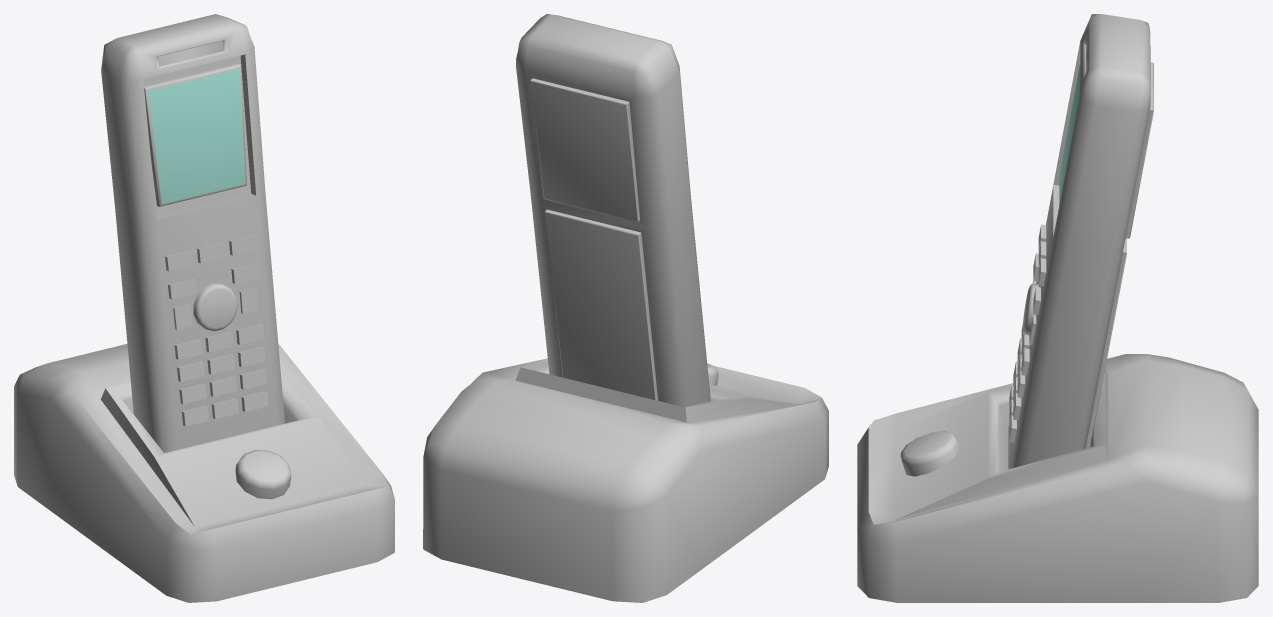
File: Telephone.fbx
3 renders of one model, left to right at view 1: azimuth 30°, elevation 25°; view 2: azimuth 150°, elevation 25°; view 3: azimuth 270°, elevation 25°, orthographic. The views are drawn at different scales.
Parts seen in each view (by area): view 1: Telephone, Telephone-Box; view 2: Telephone-Box, Telephone; view 3: Telephone-Box, Telephone.
Boxes of the visible parts, x1,y1,x2,y2 form: Telephone: [101, 14, 284, 452]; Telephone-Box: [14, 344, 394, 602]; Telephone-Box: [423, 358, 828, 602]; Telephone: [516, 14, 710, 406]; Telephone-Box: [857, 354, 1258, 602]; Telephone: [1008, 14, 1153, 469].
Size of the model in its own units: 0.0806 by 0.1595 by 0.1152.
